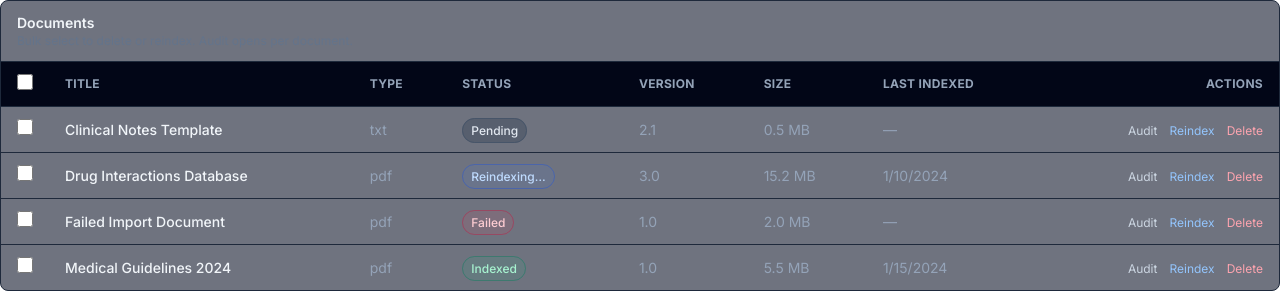
DocumentTable › selection › selects all documents when select all clicked
Click the checkbox named "Select all documents": (25, 82) [17,74,33,90]
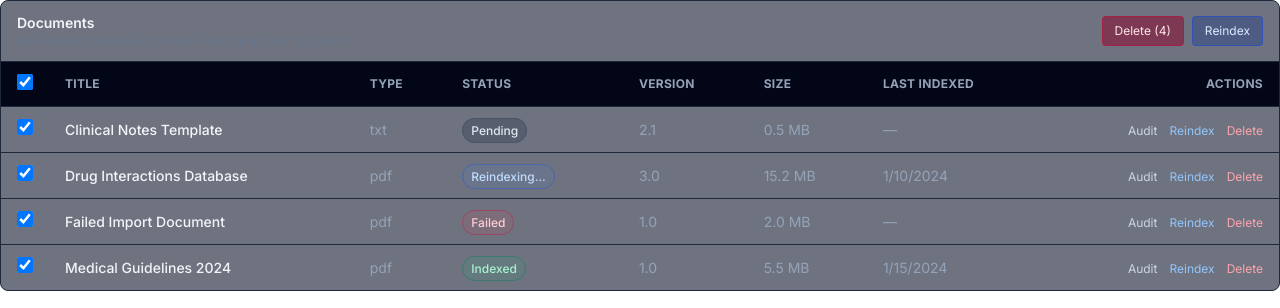
Expected: the checkbox named "Select all documents" is checked, [17,74,33,90]
Expected: the checkbox named "Select Clinical Notes Template" is checked, [17,119,33,135]
Expected: the checkbox named "Select Drug Interactions Database" is checked, [17,165,33,181]
